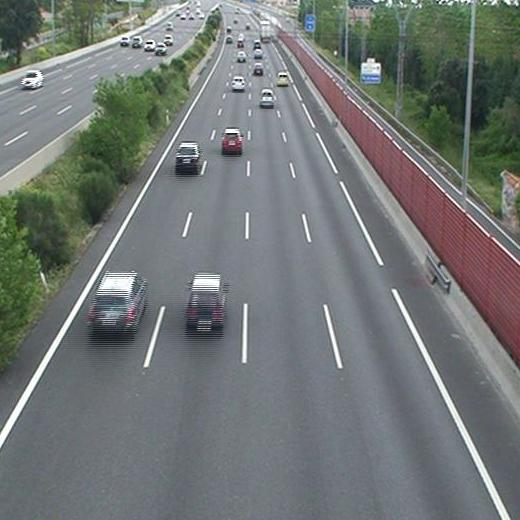car: (90, 274, 146, 330), (186, 275, 225, 330), (176, 143, 200, 169), (221, 130, 242, 152), (259, 90, 274, 107), (231, 76, 245, 90), (277, 72, 289, 86), (253, 63, 263, 74), (237, 51, 246, 61), (255, 49, 263, 57)
